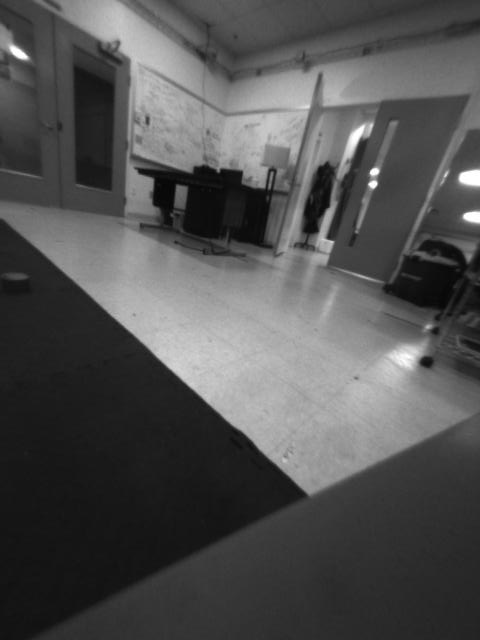dogtoy: (3, 263, 39, 302)
